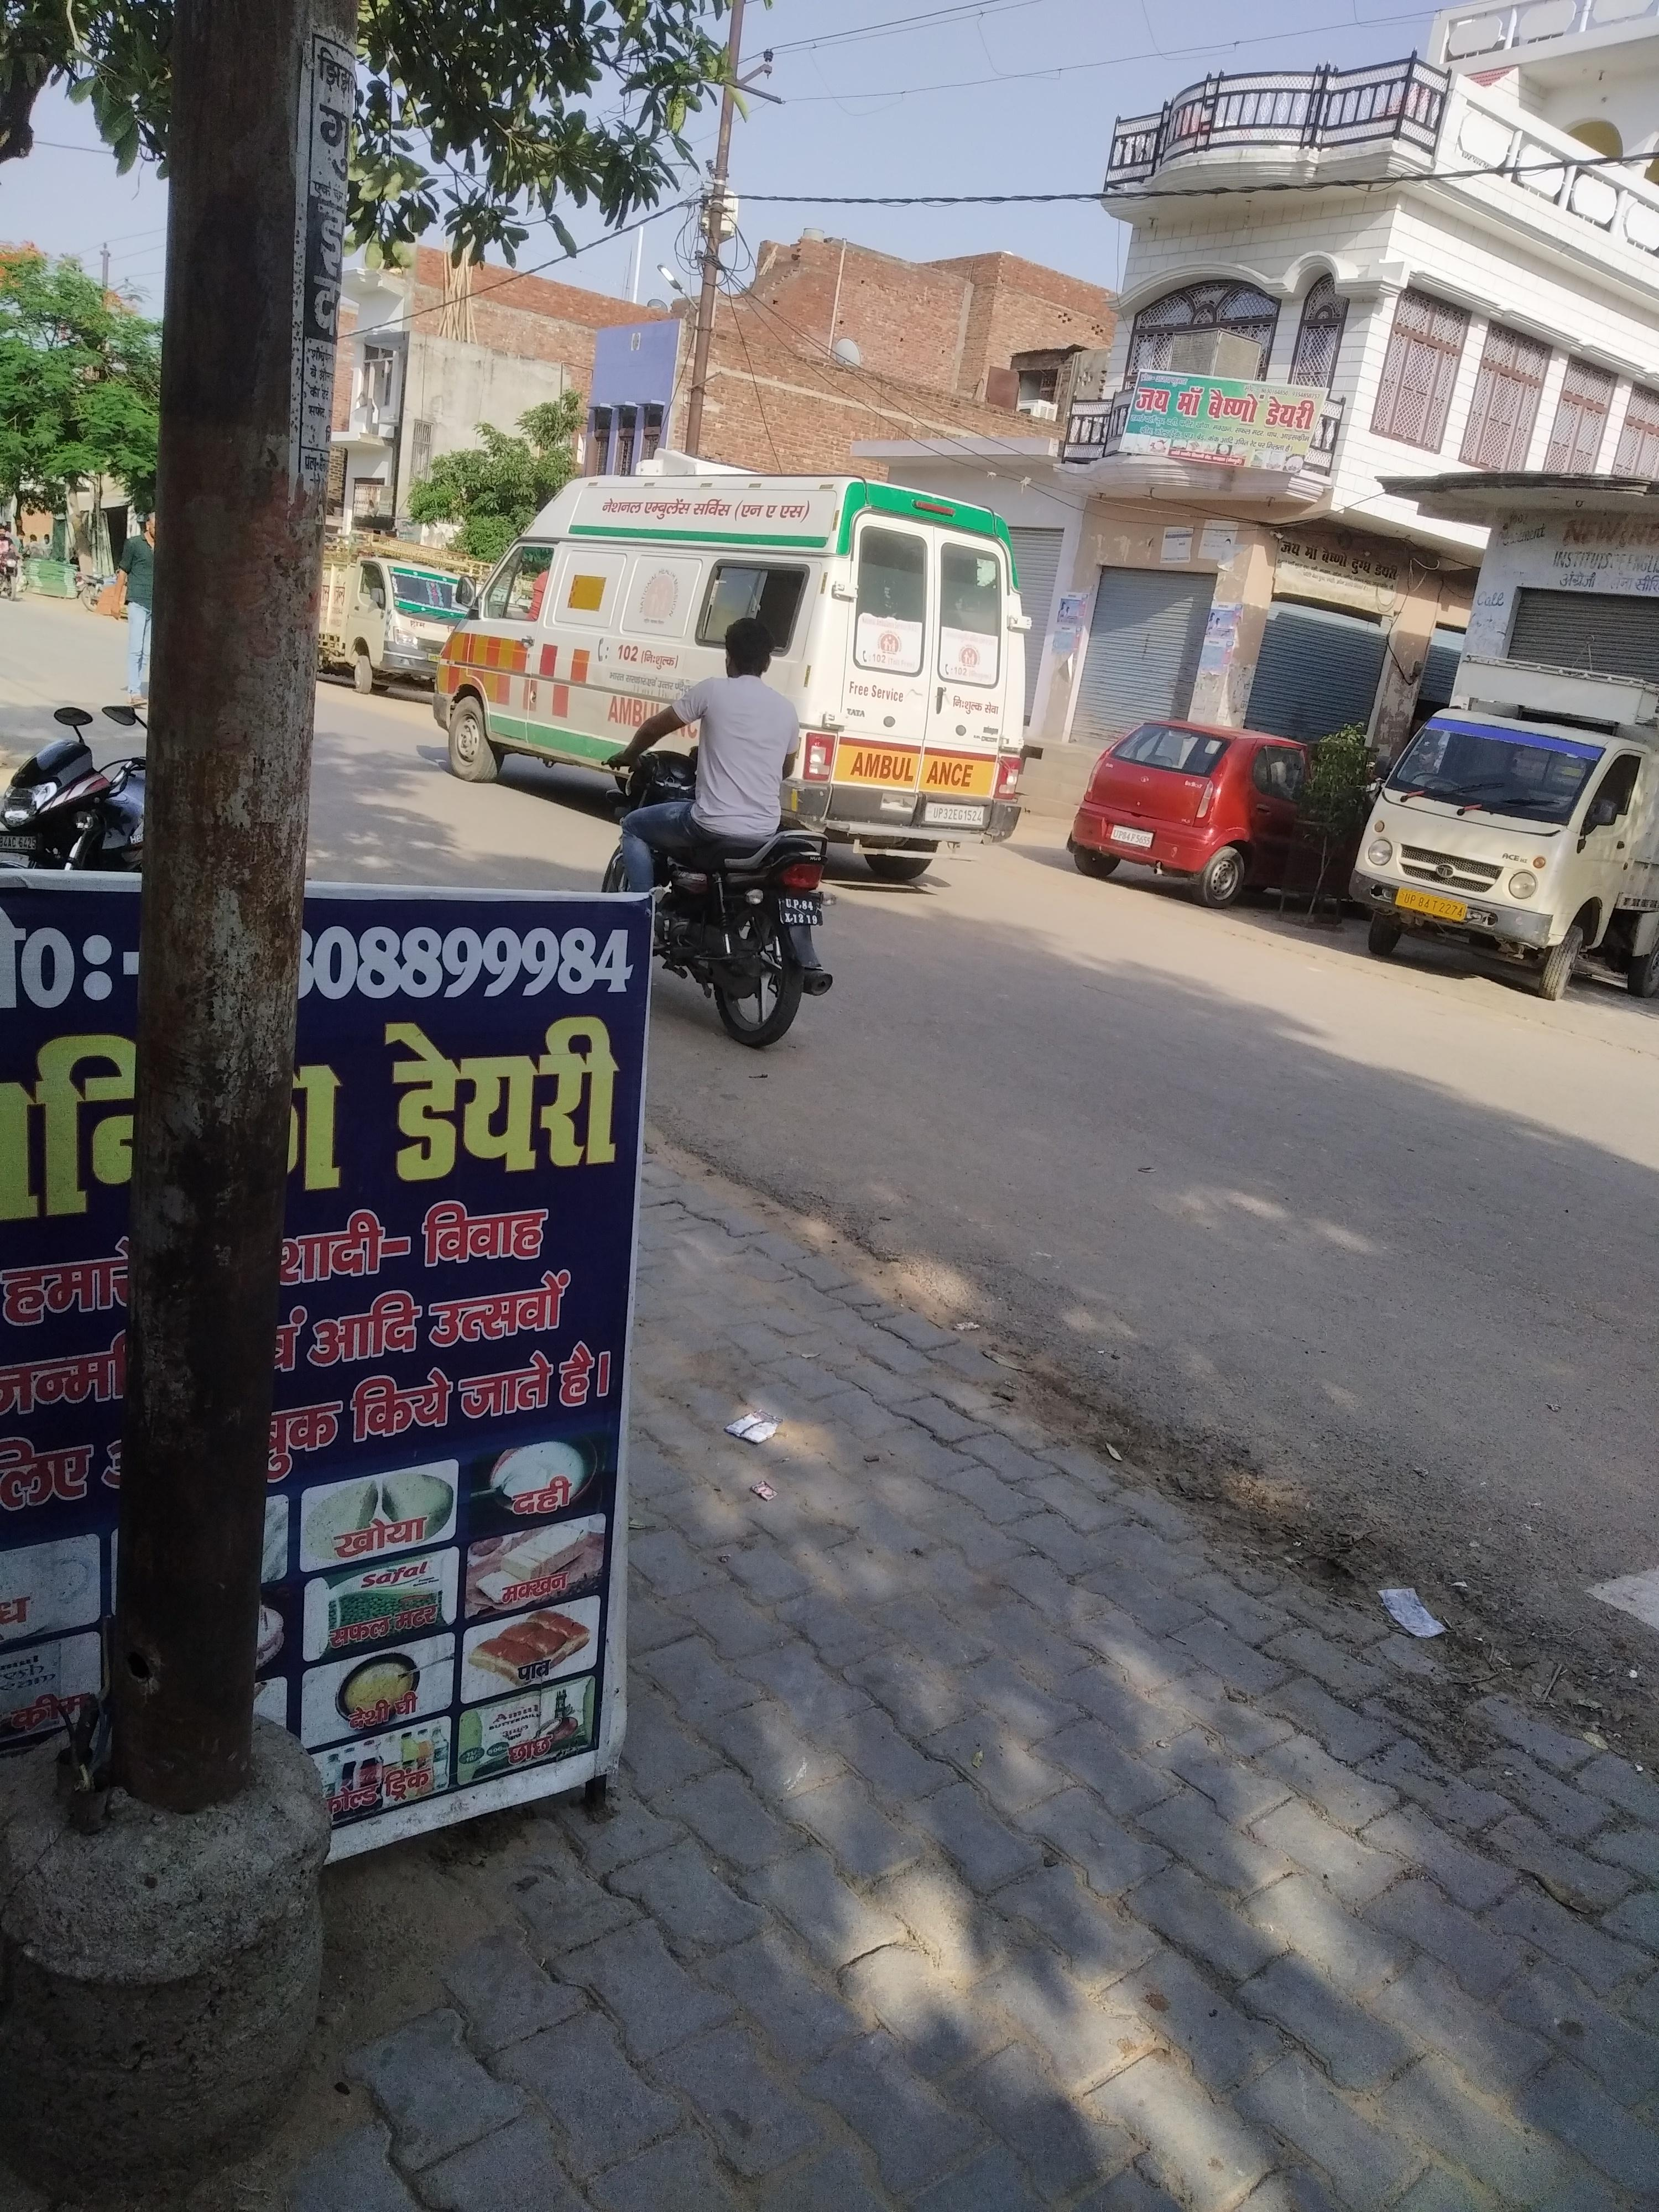Auto: (444, 394, 1035, 899)
Truck: (1366, 625, 1659, 1031)
